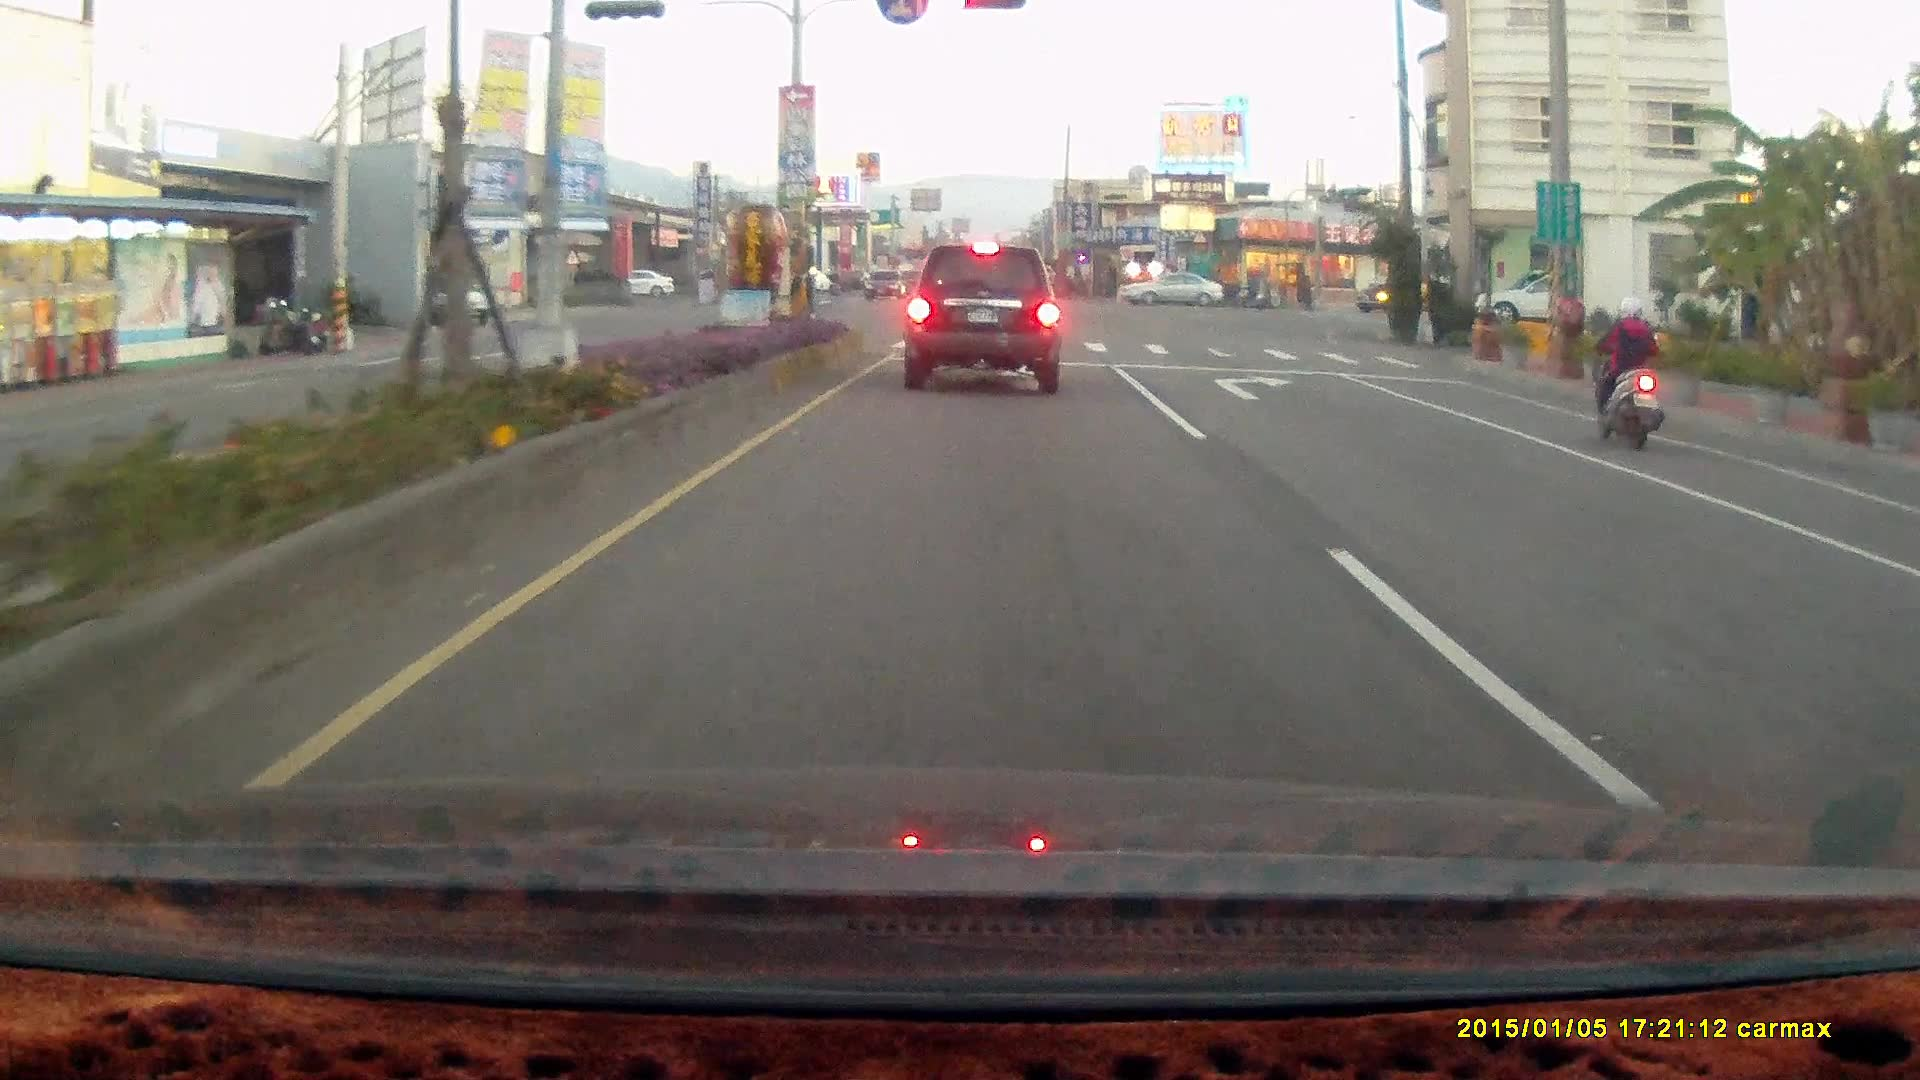rider: (1587, 301, 1668, 461), (1234, 269, 1273, 311)
vehicle: (902, 244, 1063, 394), (1475, 268, 1610, 331), (1896, 493, 1920, 836), (1476, 273, 1591, 335), (1883, 528, 1920, 690), (1118, 269, 1226, 309), (419, 274, 496, 330), (1118, 270, 1225, 309)
